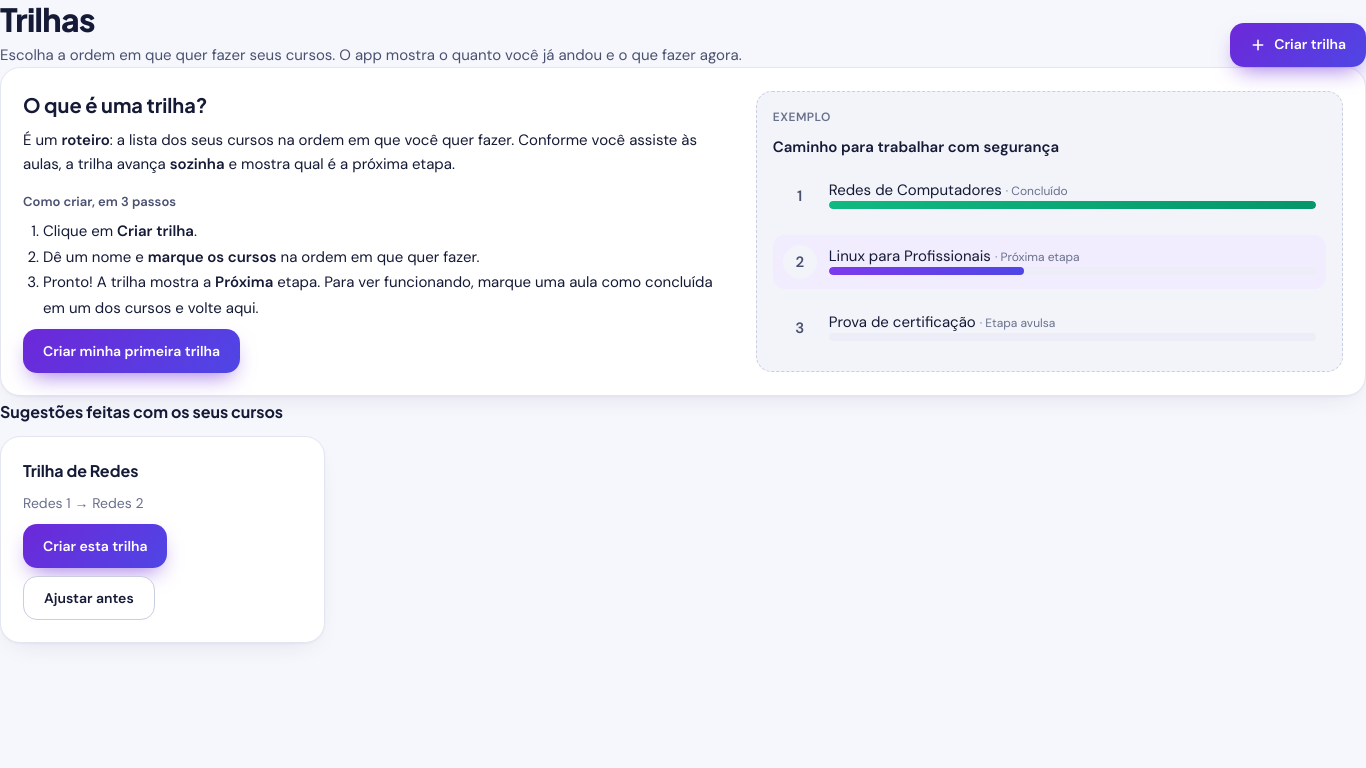
Trilhas · lista › "Ajustar antes" abre o assistente já preenchido
This screenshot has width=1366, height=768.
Click the button "Ajustar antes" at (89,598), box x1=23 y1=576 x2=155 y2=620
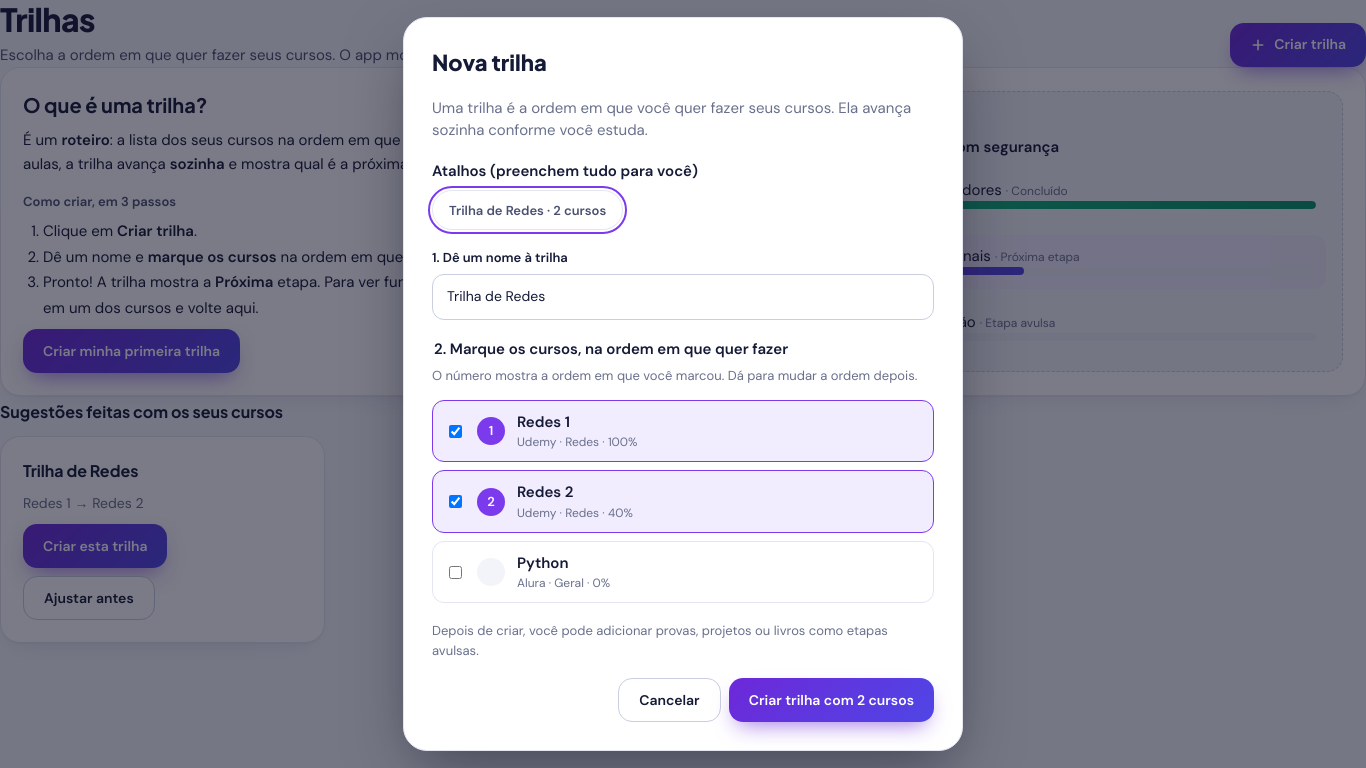
Result: the field with id "tw-title" holds "Trilha de Redes" at x1=432 y1=274 x2=934 y2=320
Result: the button "Criar trilha com 2 cursos" is shown at x1=729 y1=678 x2=934 y2=722
